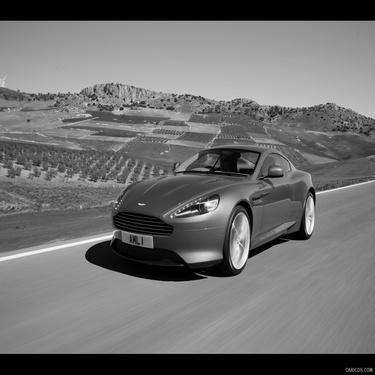car: (101, 137, 324, 283)
